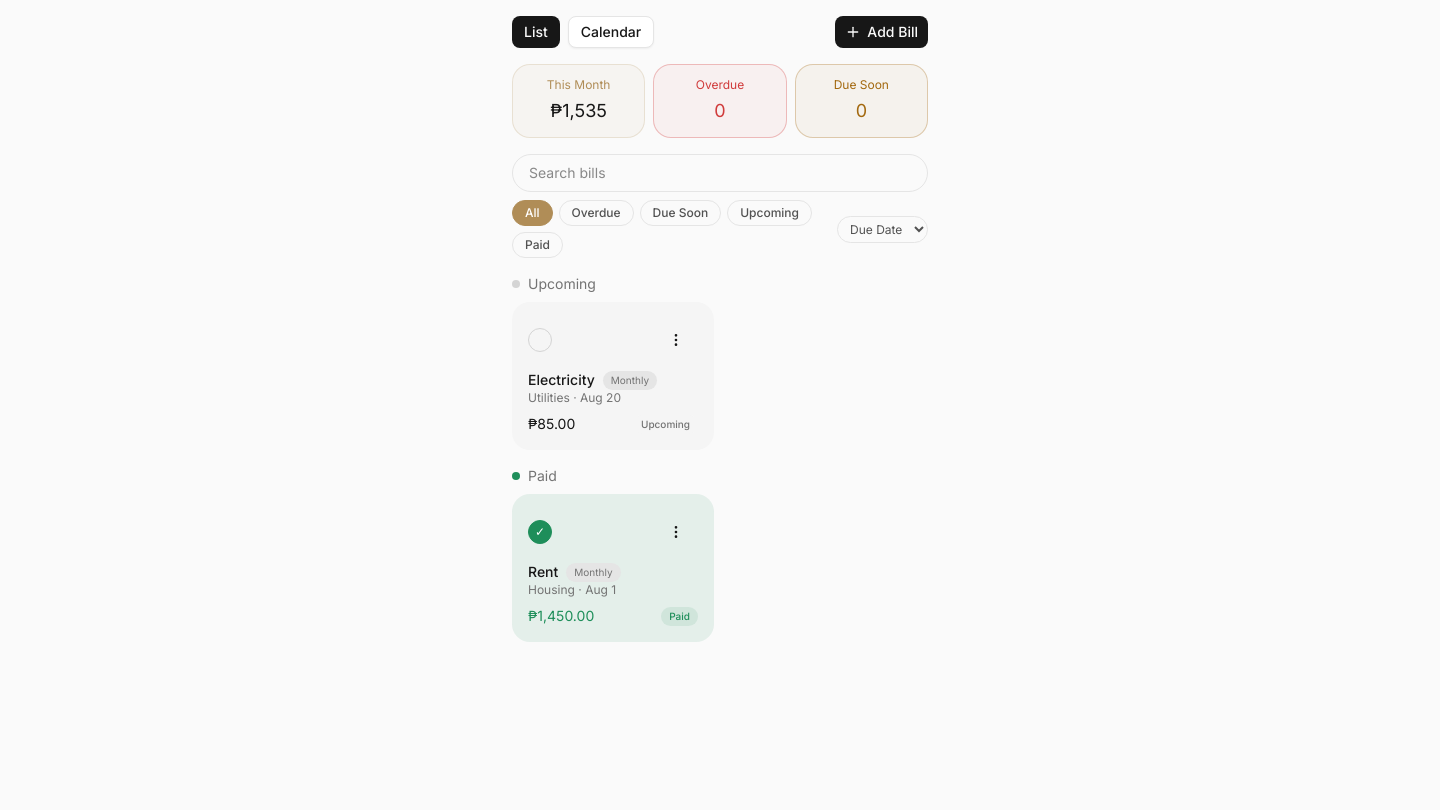
Test: BillsPage › opens the edit form pre-filled when a bill row Edit is chosen from its actions menu
The image size is (1440, 810).
Click the button named "actions for rent". click: click(676, 532)
box: [654, 510, 698, 554]
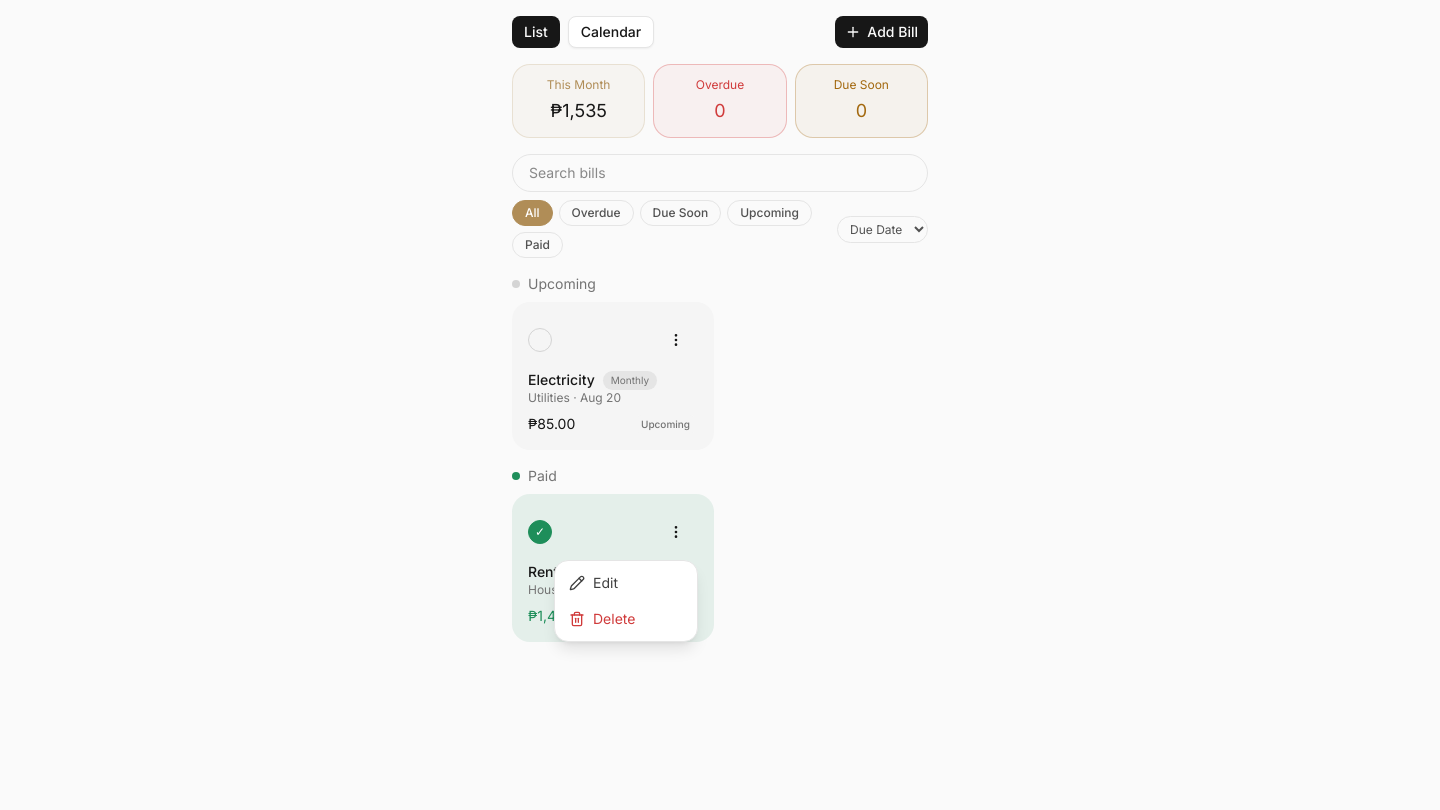
Click the menu item "Edit". click: click(594, 582)
box: [569, 574, 618, 591]
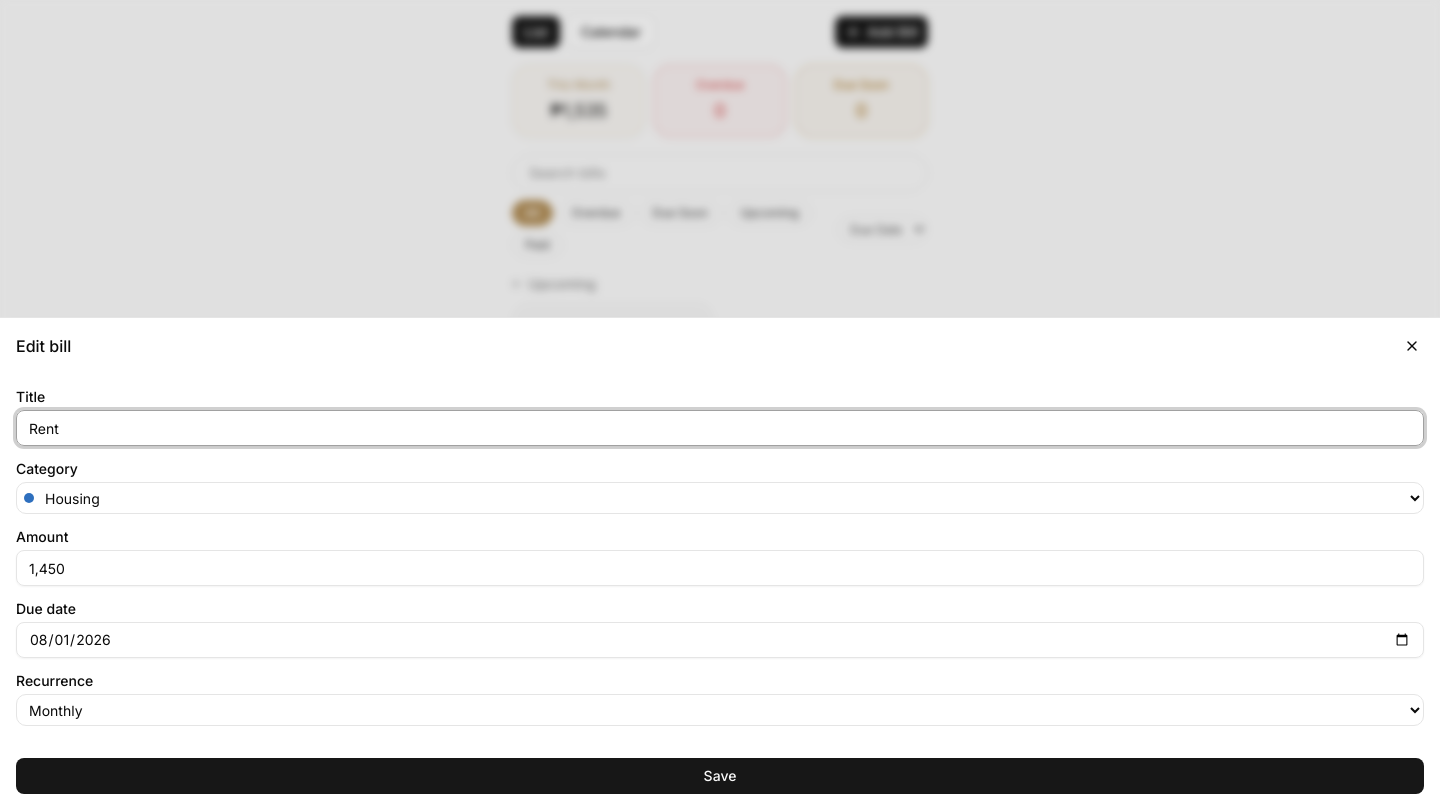
Expected: the heading "Edit bill" is shown, [16, 336, 71, 356]
Expected: the field labelled "Title" holds "Rent", [16, 410, 1424, 446]
